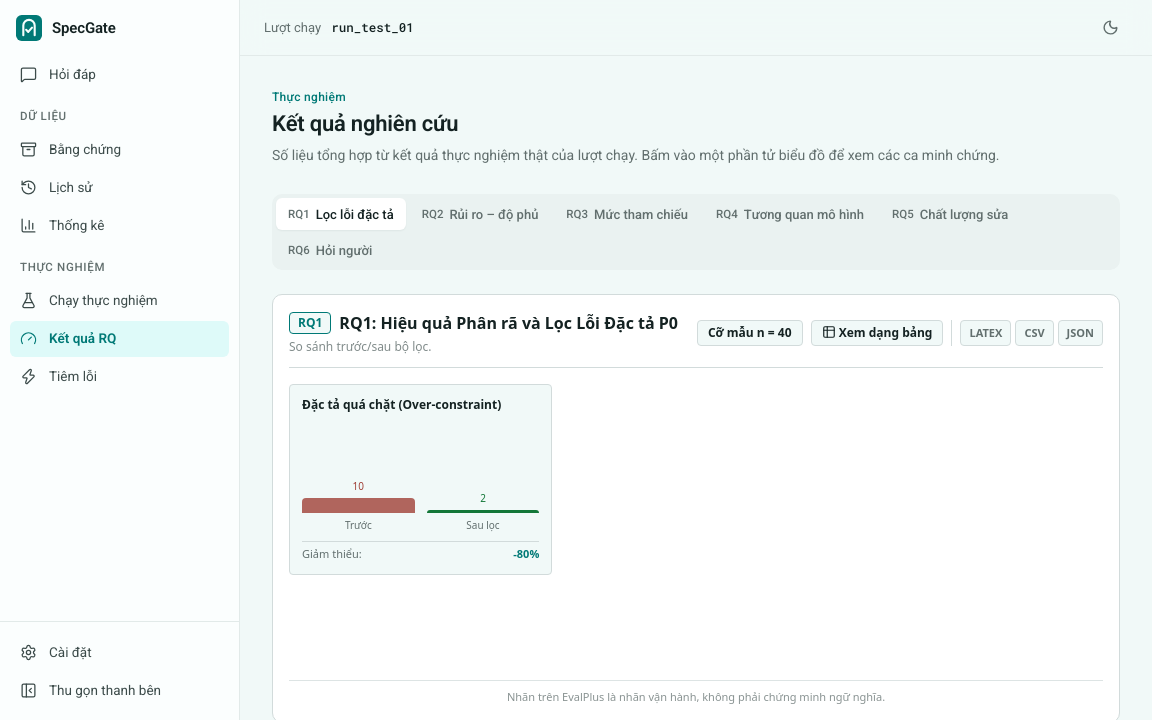
Test case: Results Dashboard & Witness Interactivity UI › renders RQ1 stacked bar chart and toggles between chart and table view
Expected: the element with test id "rq1-chart" is shown, x1=289 y1=384 x2=552 y2=575
Note: Toggle to Table view
Click the button with test id "toggle-view-mode-btn" at (877, 333), box x1=811 y1=320 x2=944 y2=346
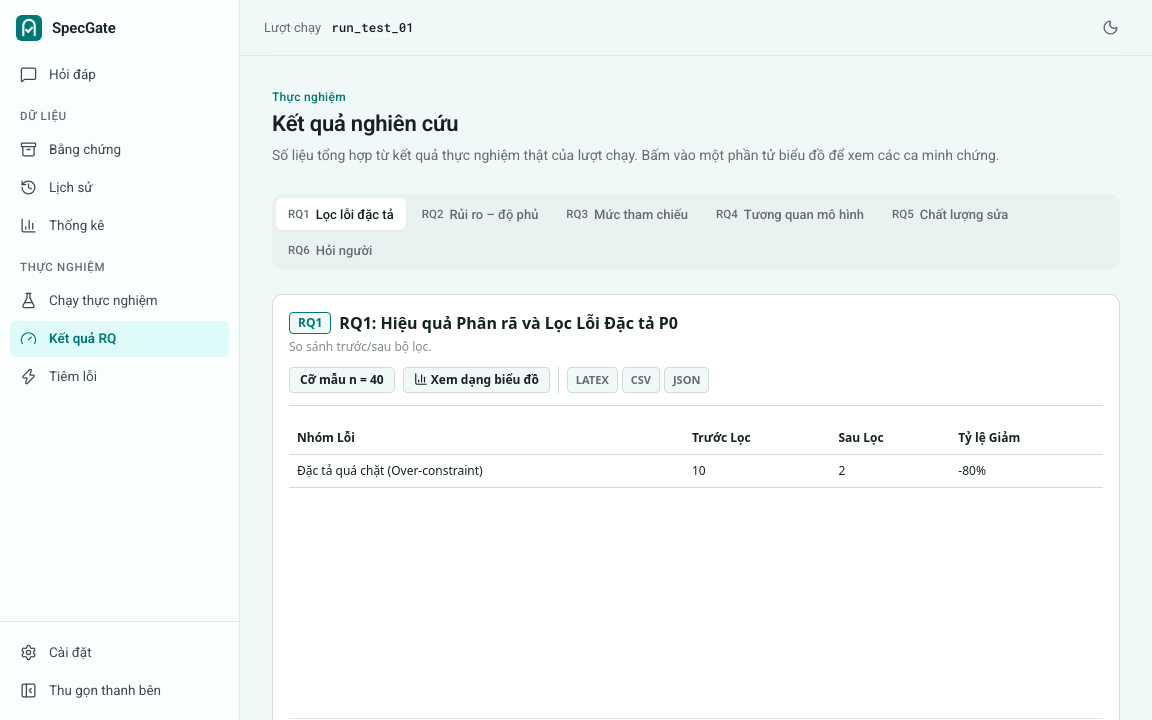
Expected: the text "Đặc tả quá chặt (Over-constraint)" is shown, x1=289 y1=455 x2=684 y2=488
Expected: the element with test id "table-view" is shown, x1=289 y1=422 x2=1103 y2=488
